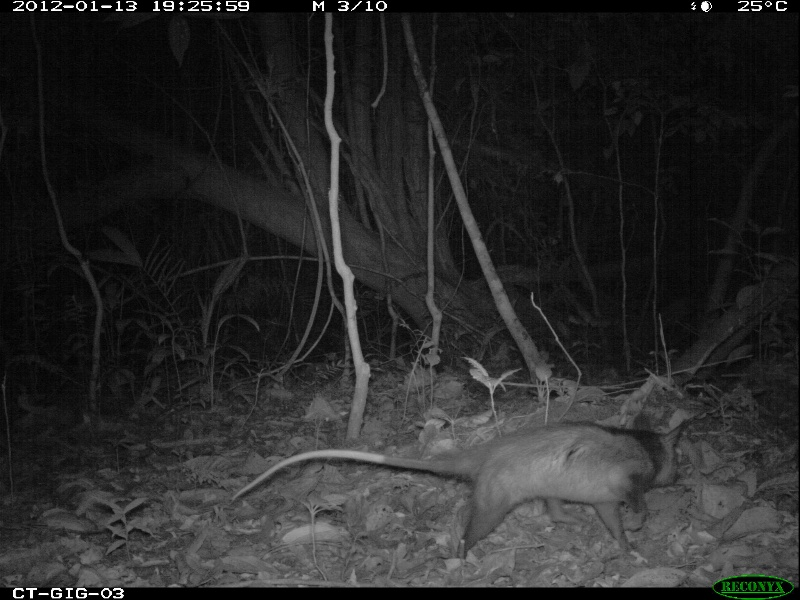opossum: (226, 416, 695, 563)
